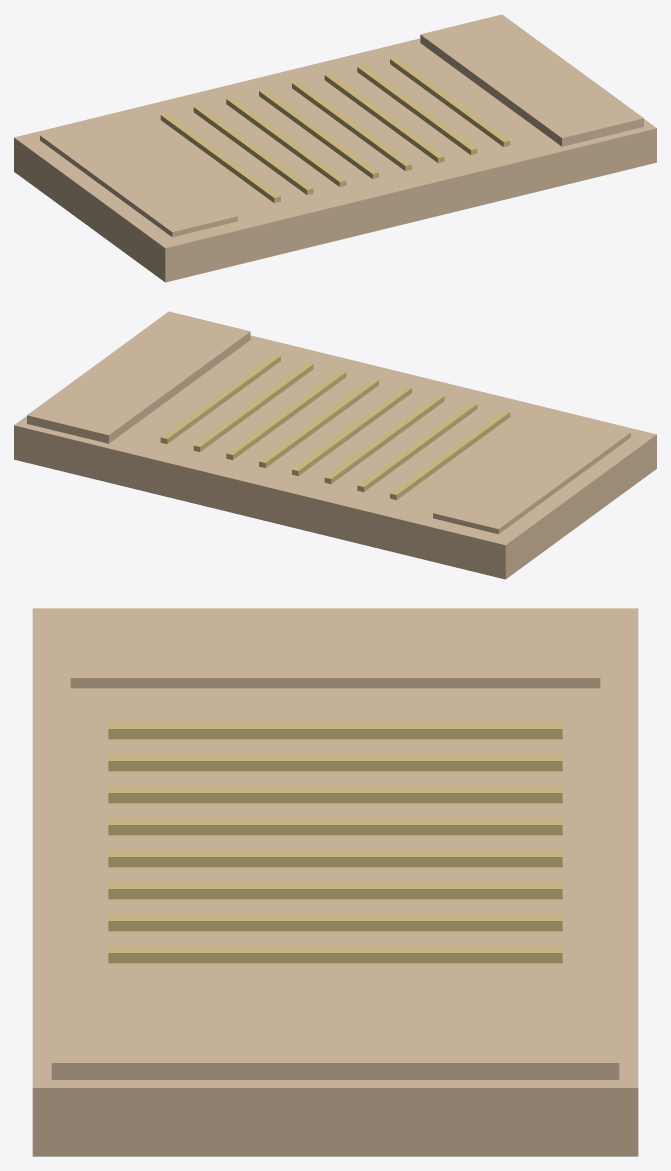
The model's file is prop-pill-board-blank.fbx.
3 renders of one model, top to bottom at view 1: azimuth 30°, elevation 25°; view 2: azimuth 150°, elevation 25°; view 3: azimuth 270°, elevation 25°, orthographic. The views are drawn at different scales.
Parts seen in each view (by area): view 1: prop-pill-board-blank; view 2: prop-pill-board-blank; view 3: prop-pill-board-blank.
Boxes of the visible parts, <box> form: prop-pill-board-blank: <box>14,14,656,282</box>; prop-pill-board-blank: <box>14,311,656,579</box>; prop-pill-board-blank: <box>32,608,638,1156</box>.
Bounding box in the file's own units: 30 × 2.5 × 16.
